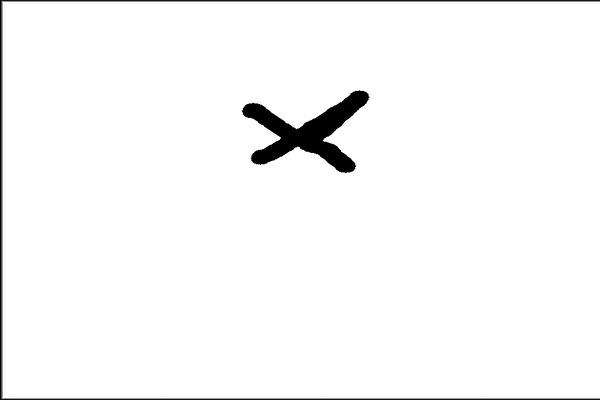X: (227, 73, 381, 186)
